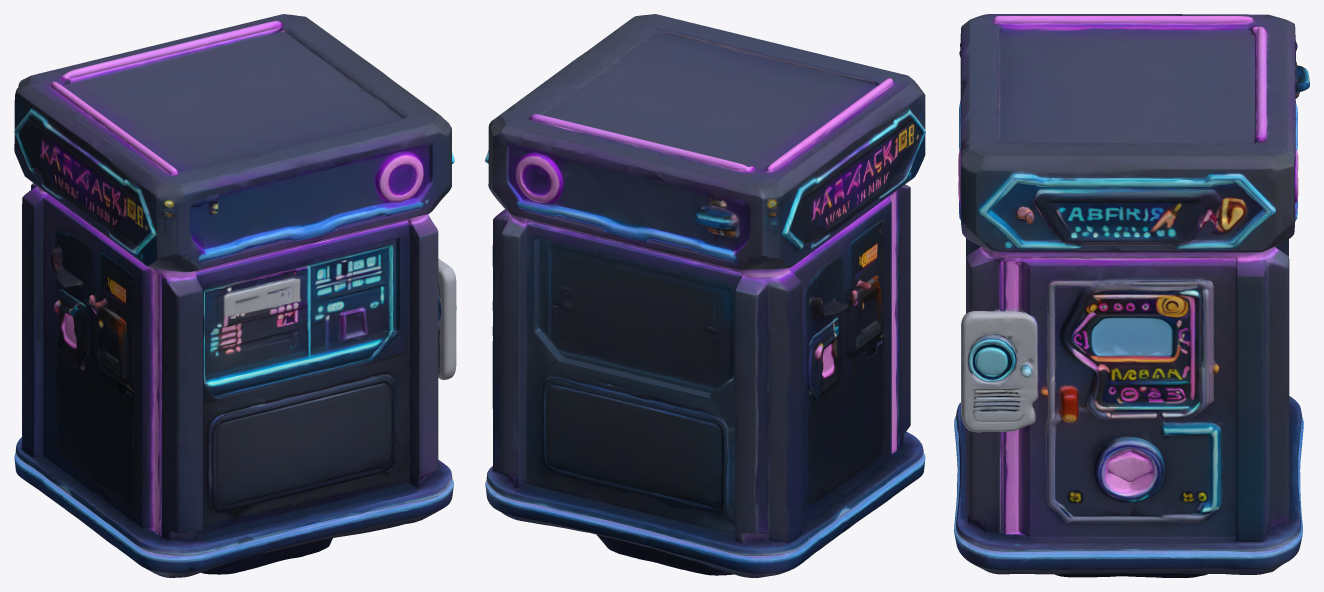
File: building-karaoke.glb
The picture shows the model from 3 angles, left to right: view 1: azimuth 30°, elevation 25°; view 2: azimuth 150°, elevation 25°; view 3: azimuth 270°, elevation 25°; orthographic projection. The views are drawn at different scales.
Parts seen in each view (by area): view 1: tripo_node_a85298b6-16e2-4ea4-9a04-4aea921987cc; view 2: tripo_node_a85298b6-16e2-4ea4-9a04-4aea921987cc; view 3: tripo_node_a85298b6-16e2-4ea4-9a04-4aea921987cc.
Boxes of the visible parts, box(x1,y1,x2,y2) form: tripo_node_a85298b6-16e2-4ea4-9a04-4aea921987cc: box(14, 14, 456, 577); tripo_node_a85298b6-16e2-4ea4-9a04-4aea921987cc: box(485, 14, 925, 577); tripo_node_a85298b6-16e2-4ea4-9a04-4aea921987cc: box(954, 14, 1309, 577).
Size of the model in its own units: 5.96 by 8 by 5.55.
Materials: 1 (1 with a texture image).
